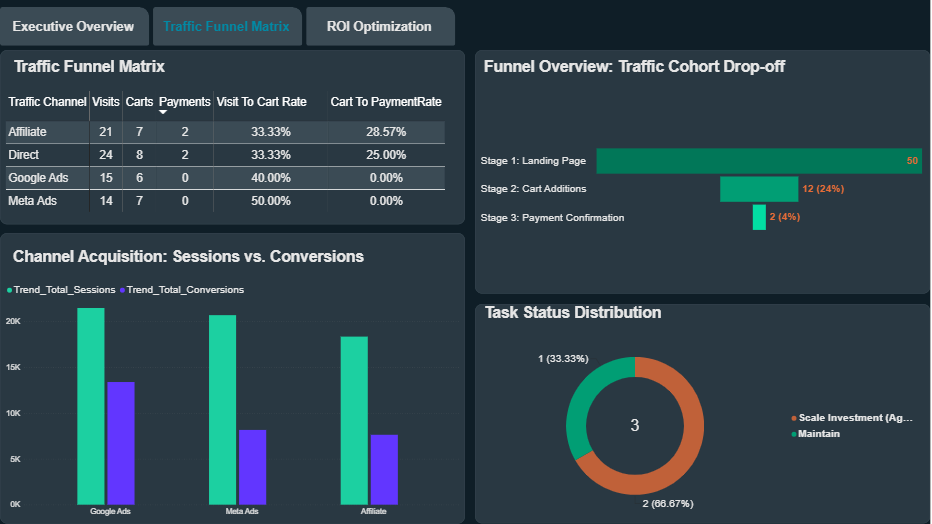

What the dashboard file says about the page in this screenshot:
{"tool":"powerbi","page":{"name":"Traffic Funnel Matrix","canvas":[1920,1080],"ordinal":1},"visuals":[{"type":"textbox","box":[0,102.5,960,360],"z":0},{"type":"textbox","box":[0,480,960,600],"z":1000},{"type":"textbox","box":[980,627.5,940,452.5],"z":2000},{"type":"textbox","box":[980,102.5,940,502.5],"z":3000},{"type":"pivotTable","title":"Traffic Funnel Matrix","fields":{"Rows":["bi_page2_cohort_matrix.traffic_channel"],"Values":["_Measures_Hub.Cohort_Visits","_Measures_Hub.Cohort_Carts","_Measures_Hub.Cohort_Payments","_Measures_Hub.Cohort_Visit_To_Cart_Rate","_Measures_Hub.Cohort_Cart_To_Payment_Rate"]},"box":[0,175,960,287.5],"z":4000},{"type":"funnel","title":"Live Funnel Overview: Traffic Cohort Drop-off","fields":{"Category":["summary_funnel_metrics.stage_name"],"Y":["Sum(summary_funnel_metrics.session_count)"]},"box":[980,175,940,430],"z":5000},{"type":"clusteredColumnChart","title":"Channel Acquisition: Sessions vs. Conversions","fields":{"Category":["marketing_spend_logs.channel"],"Y":["_Measures_Hub.Trend_Total_Sessions","_Measures_Hub.Trend_Total_Conversions"]},"box":[0,567.5,960,512.5],"z":6000},{"type":"donutChart","title":"Task Status Distribution","fields":{"Category":["bi_page3_budget_optimization.recommended_action"],"Y":["CountNonNull(bi_page3_budget_optimization.channel)"]},"box":[980,680,940,400],"z":7000},{"type":"textbox","box":[27.5,120,550,55],"z":8000},{"type":"textbox","box":[27.5,512.5,792.5,55],"z":9000},{"type":"textbox","box":[1000,120,805,55],"z":10000},{"type":"textbox","box":[1000,627.5,550,55],"z":11000},{"type":"pageNavigator","box":[0,15,942.5,80],"z":11001}]}

Visuals, with their boxes in screenshot pixels (x1, y1, x2, y2), scaled from the page's 1920x1080 canvas onto the 932x524 screenshot:
textbox: detection(0, 50, 466, 224)
textbox: detection(0, 233, 466, 523)
textbox: detection(476, 304, 931, 523)
textbox: detection(476, 50, 931, 294)
"Traffic Funnel Matrix" pivotTable: detection(0, 85, 466, 224)
"Live Funnel Overview: Traffic Cohort Drop-off" funnel: detection(476, 85, 931, 294)
"Channel Acquisition: Sessions vs. Conversions" clusteredColumnChart: detection(0, 275, 466, 523)
"Task Status Distribution" donutChart: detection(476, 330, 931, 523)
textbox: detection(13, 58, 280, 85)
textbox: detection(13, 249, 398, 275)
textbox: detection(485, 58, 876, 85)
textbox: detection(485, 304, 752, 331)
pageNavigator: detection(0, 7, 458, 46)
